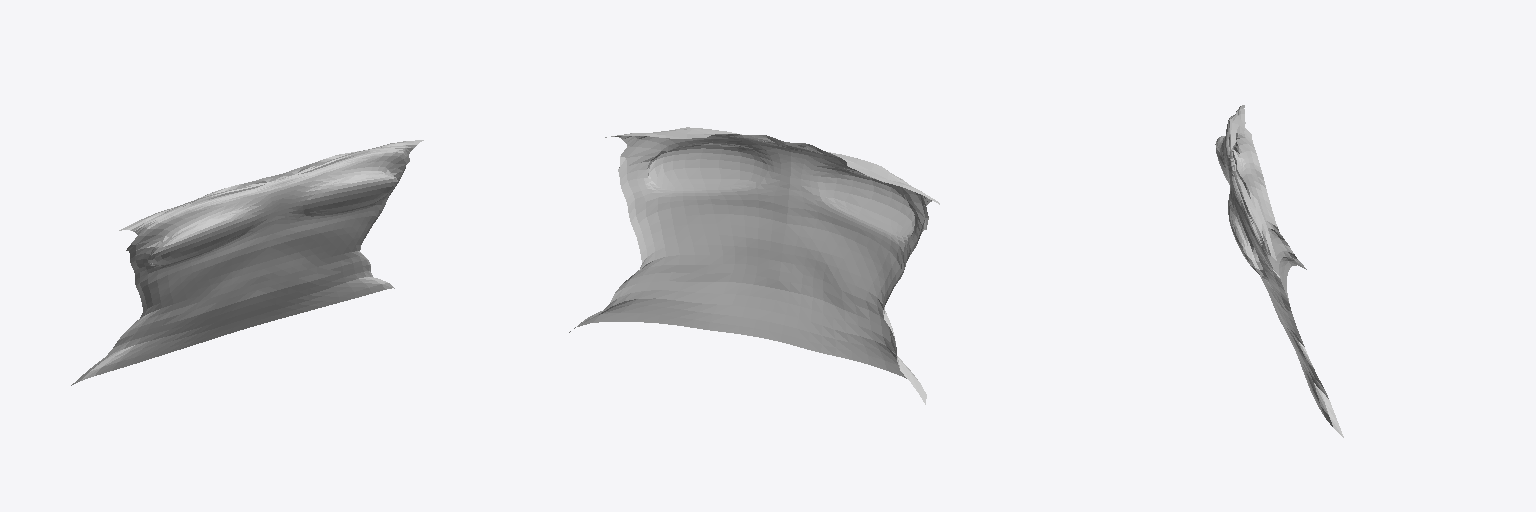
File: deformed_alpha_20_ModelRot.obj
3 renders of one model, left to right at view 1: azimuth 30°, elevation 25°; view 2: azimuth 150°, elevation 25°; view 3: azimuth 270°, elevation 25°, orthographic.
Size of the model in its own units: 0.6983 by 0.3852 by 0.2273.